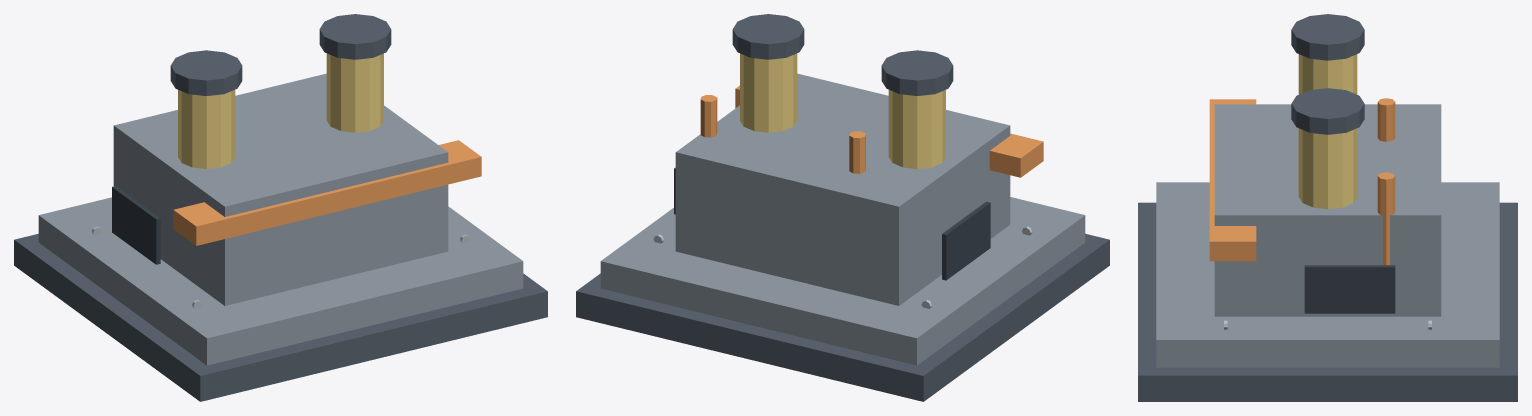
The model's file is refinery.glb.
3 renders of one model, left to right at view 1: azimuth 30°, elevation 25°; view 2: azimuth 150°, elevation 25°; view 3: azimuth 270°, elevation 25°, orthographic. The views are drawn at different scales.
Parts seen in each view (by area): view 1: detail_002, detail_001, detail_000, detail_009, detail_006, detail_003, detail_004, detail_007, detail_012; view 2: detail_002, detail_001, detail_000, detail_006, detail_003, detail_004, detail_007, detail_012, detail_009, detail_008, detail_005; view 3: detail_002, detail_001, detail_000, detail_015, detail_006, detail_007, detail_004, detail_009, detail_003, detail_008, detail_005.
Part boxes in pixels (left/top/right/bottom): detail_002: left=113, top=73, right=448, bottom=305; detail_001: left=38, top=197, right=523, bottom=365; detail_000: left=14, top=233, right=547, bottom=401; detail_009: left=173, top=140, right=481, bottom=245; detail_006: left=326, top=53, right=383, bottom=132; detail_003: left=178, top=90, right=235, bottom=168; detail_004: left=170, top=50, right=242, bottom=95; detail_007: left=319, top=14, right=391, bottom=59; detail_012: left=112, top=186, right=160, bottom=264; detail_002: left=675, top=73, right=1010, bottom=305; detail_001: left=600, top=197, right=1085, bottom=365; detail_000: left=576, top=233, right=1109, bottom=401; detail_006: left=740, top=53, right=797, bottom=132; detail_003: left=888, top=90, right=945, bottom=168; detail_004: left=881, top=50, right=953, bottom=95; detail_007: left=732, top=14, right=804, bottom=59; detail_012: left=942, top=201, right=990, bottom=280; detail_009: left=735, top=85, right=1043, bottom=177; detail_008: left=700, top=95, right=717, bottom=137; detail_005: left=849, top=131, right=865, bottom=173; detail_002: left=1214, top=104, right=1441, bottom=316; detail_001: left=1156, top=182, right=1499, bottom=367; detail_000: left=1138, top=202, right=1517, bottom=401; detail_015: left=1304, top=265, right=1395, bottom=313; detail_006: left=1298, top=128, right=1357, bottom=209; detail_007: left=1291, top=88, right=1364, bottom=134; detail_004: left=1291, top=14, right=1364, bottom=60; detail_009: left=1209, top=99, right=1256, bottom=261; detail_003: left=1298, top=54, right=1357, bottom=94; detail_008: left=1377, top=172, right=1395, bottom=265; detail_005: left=1377, top=98, right=1395, bottom=141.
Bounding box in the file's own units: 2.8 × 1.88 × 2.6.
